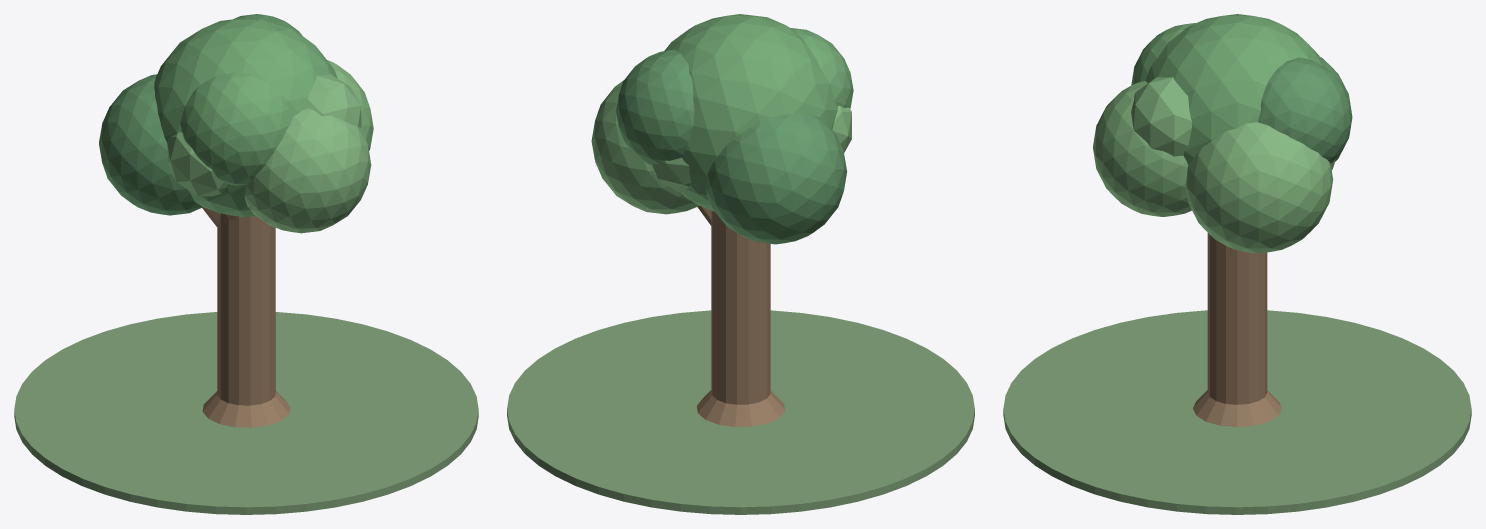
File: arvore.glb
3 renders of one model, left to right at view 1: azimuth 30°, elevation 25°; view 2: azimuth 150°, elevation 25°; view 3: azimuth 270°, elevation 25°, orthographic.
Parts seen in each view (by area): view 1: world; view 2: world; view 3: world.
Part boxes in pixels (<box>): world: <box>14,14,478,514</box>; world: <box>507,14,974,514</box>; world: <box>1003,14,1471,514</box>.
Bounding box in the file's own units: 4.4 × 4.08 × 4.4.
